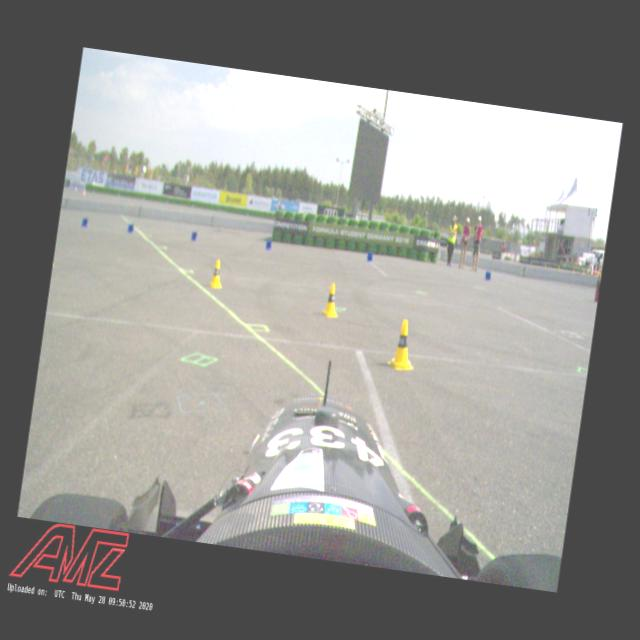blue_cone: (126, 222, 134, 234), (190, 230, 198, 242), (264, 240, 272, 252), (82, 216, 89, 228), (366, 252, 373, 263), (485, 271, 492, 281)
yellow_cone: (387, 316, 420, 372), (322, 281, 342, 321), (209, 258, 225, 288)
